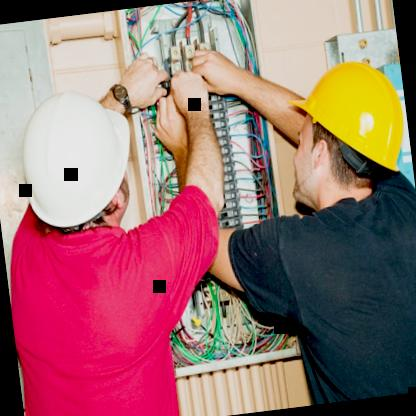helmet: (0, 65, 165, 274), (264, 29, 416, 238)
